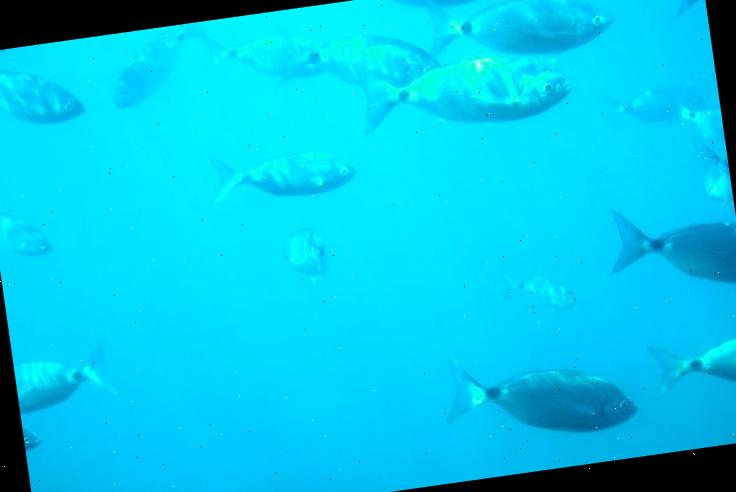fish: (439, 326, 639, 450), (359, 44, 575, 140), (270, 9, 436, 106), (607, 190, 736, 301), (424, 0, 615, 67), (206, 135, 360, 210), (202, 17, 328, 92), (108, 22, 210, 111), (11, 338, 114, 414), (0, 60, 85, 132), (649, 326, 736, 396), (607, 76, 707, 130), (500, 267, 577, 320), (690, 128, 734, 213), (282, 222, 332, 285), (0, 203, 53, 262), (674, 92, 725, 150), (661, 0, 708, 26), (22, 424, 43, 454)
